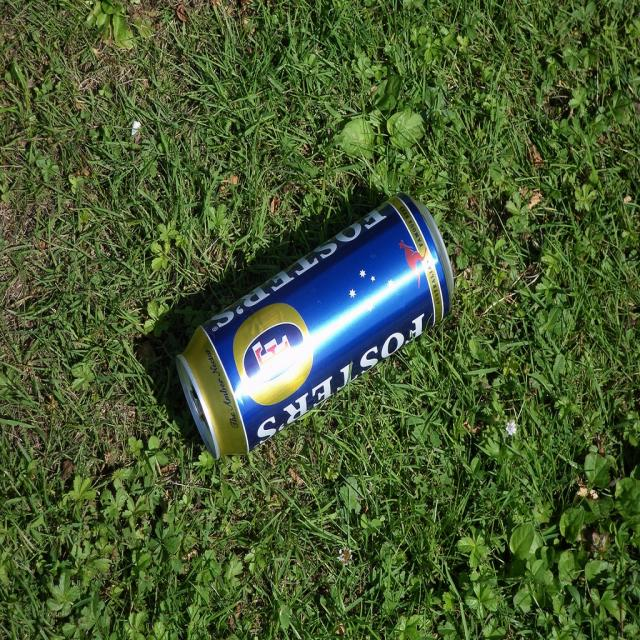fosters: (231, 302, 316, 408)
